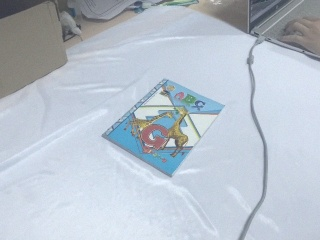book: (98, 76, 227, 179)
box: (1, 1, 68, 108)
